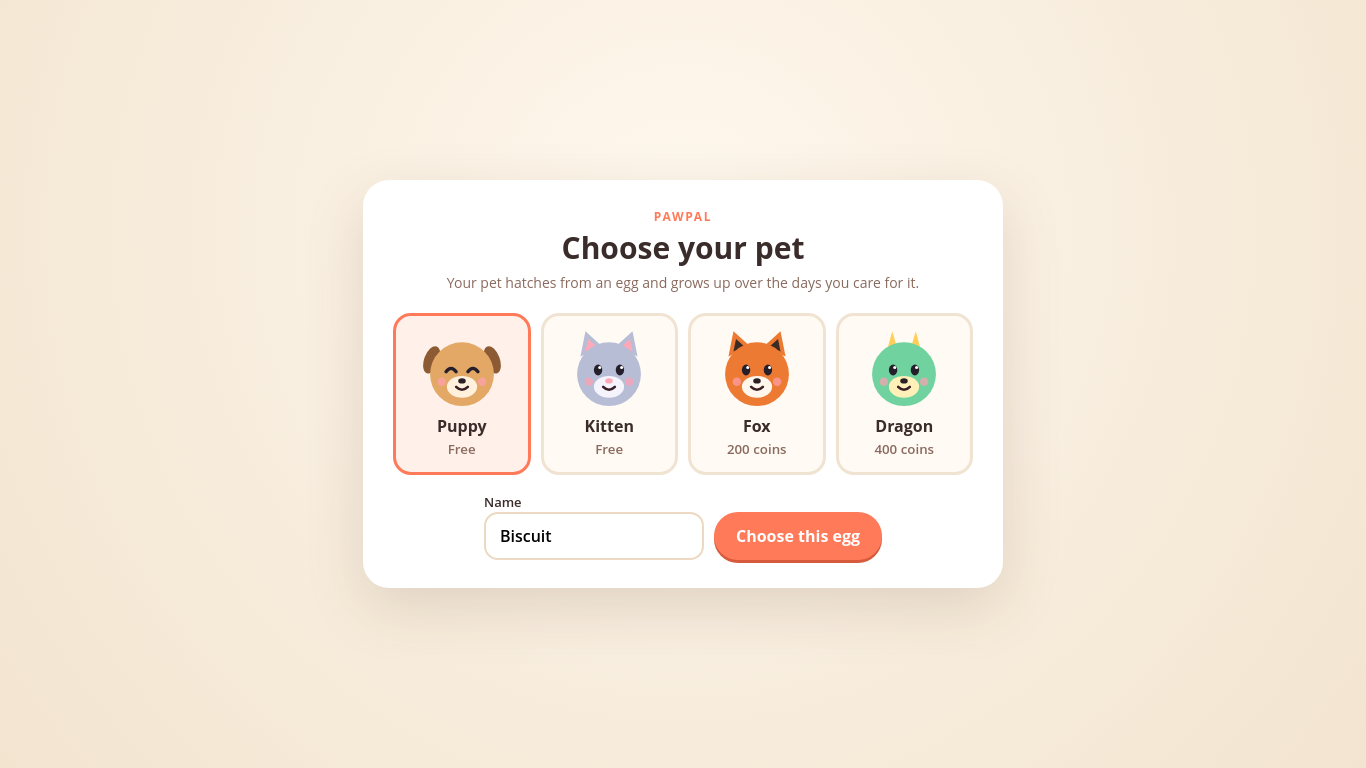
Test: a new player picks a pet, names it and hatches the egg
Expected: the heading "Choose your pet" is shown, [562, 230, 804, 266]
Expected: the radio button labelled "Fox 200 coins" is shown, [688, 313, 826, 475]
Click the radio button labelled "Kitten Free" at point(609, 394), box [540, 313, 678, 475]
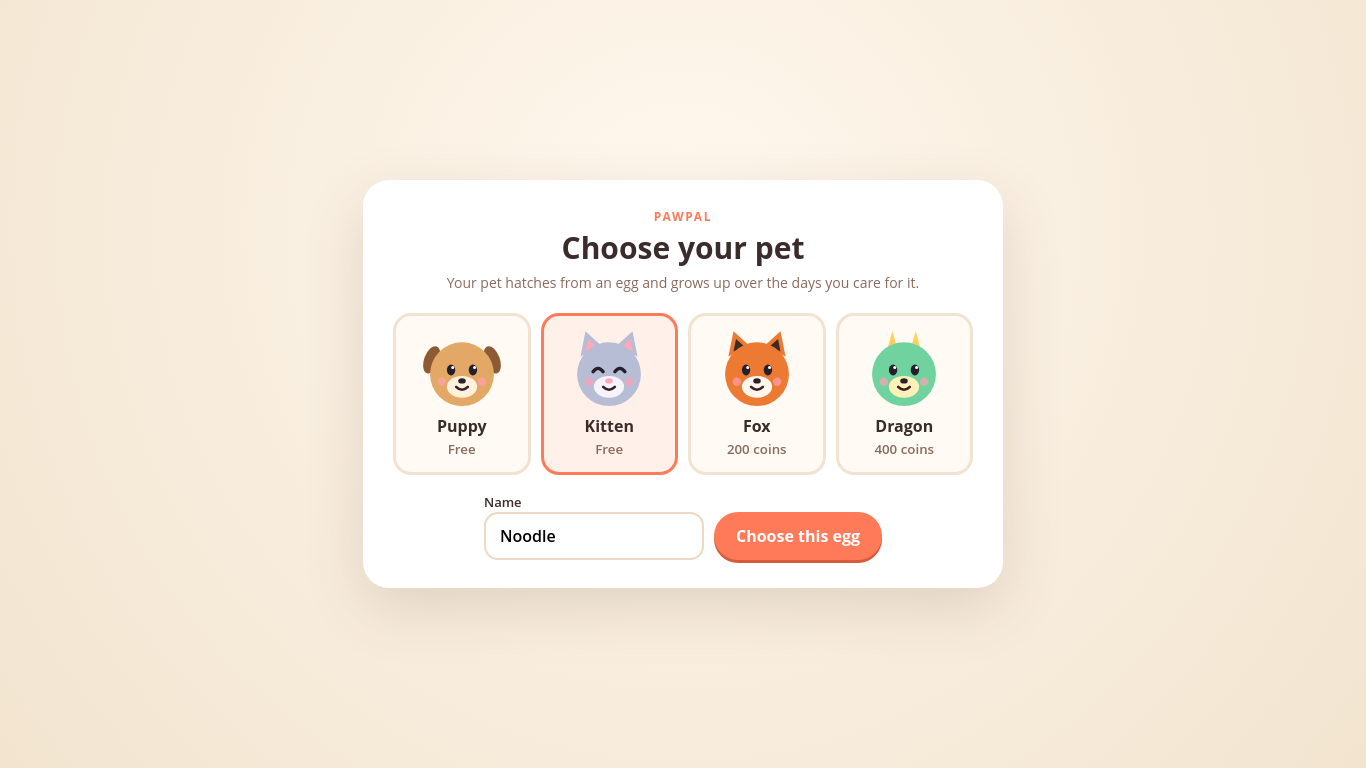
Replace the text in the field labelled "Name" with "Mochi" at point(594, 536), box [484, 512, 704, 560]
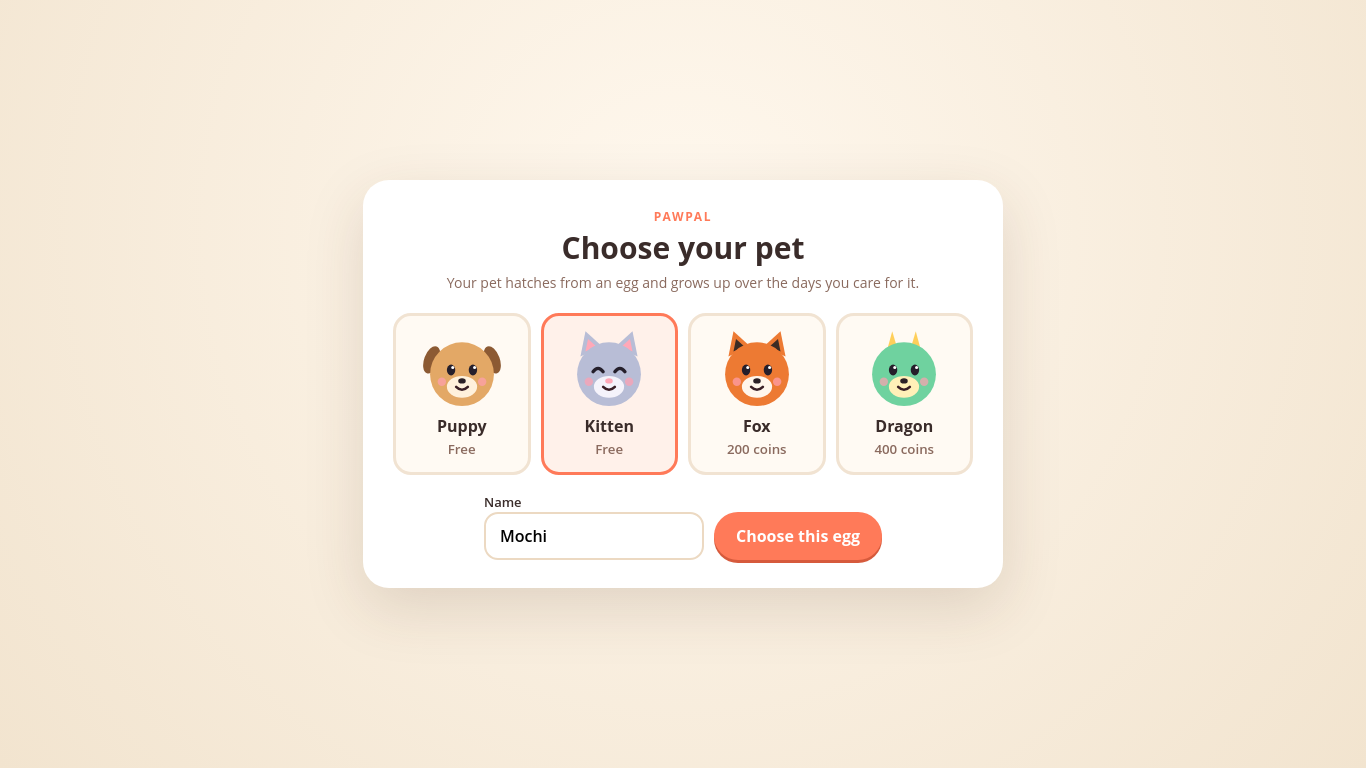
Click the button "Choose this egg" at point(798, 536), box [714, 512, 882, 560]
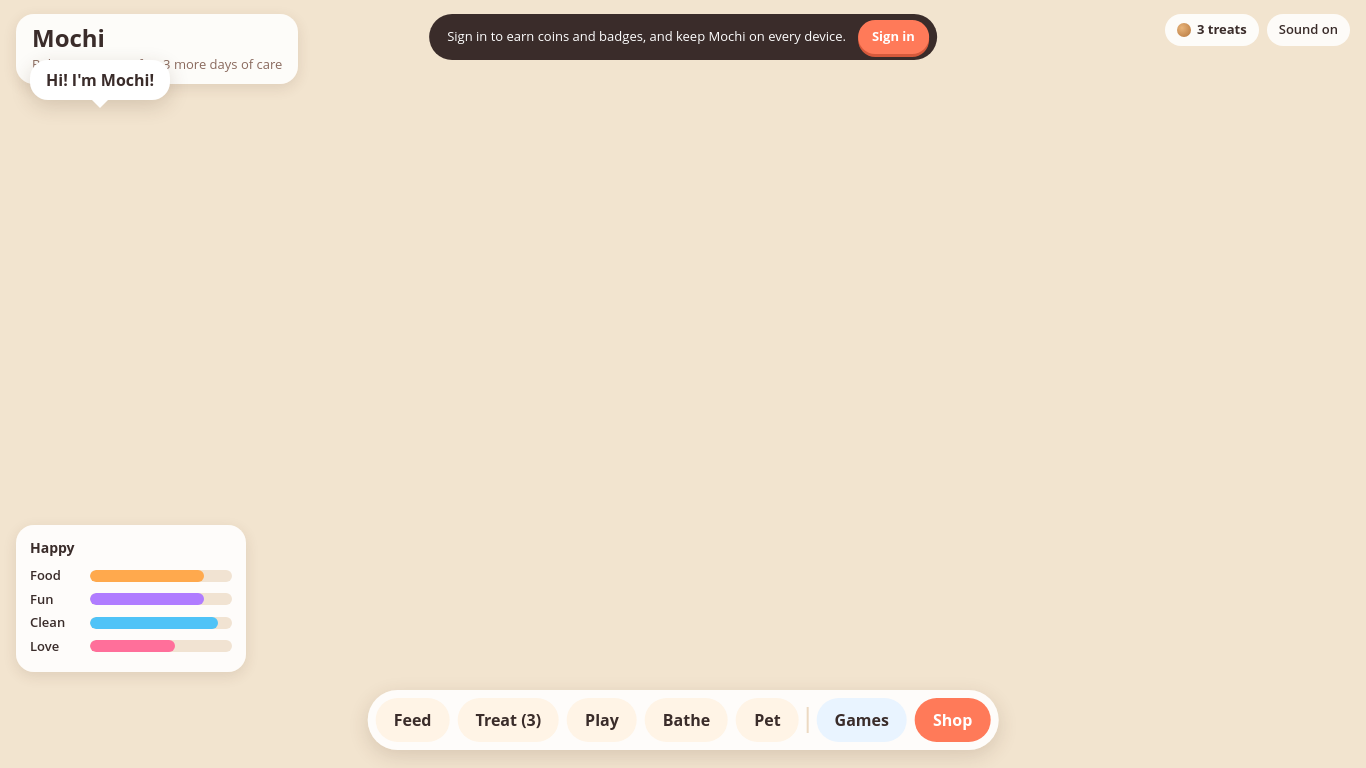
Expected: the heading "Mochi" is shown, [32, 21, 105, 54]
Expected: the button "Feed" is shown, [376, 698, 450, 742]
